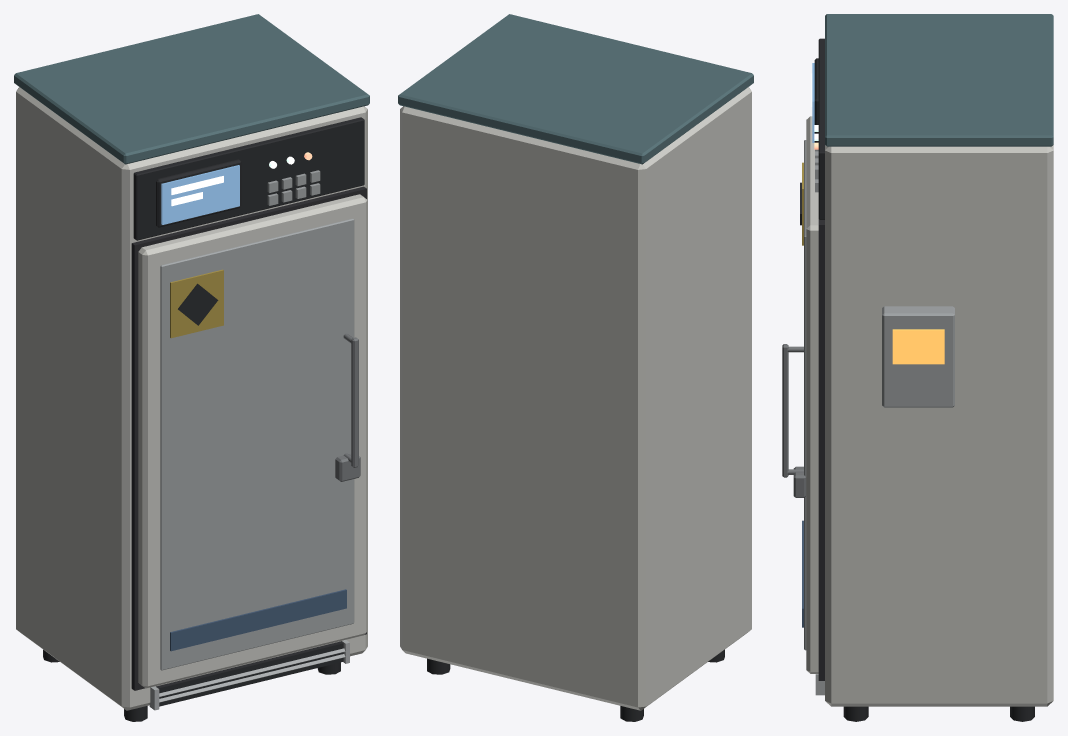
Rendered from astro_sample_freezer.fbx.
3 views of the same model, side by side, from view 1: azimuth 30°, elevation 25°; view 2: azimuth 150°, elevation 25°; view 3: azimuth 270°, elevation 25° (orthographic). The views are drawn at different scales.
Visible parts, largest first — view 1: SampleFreezer_Body; view 2: SampleFreezer_Body; view 3: SampleFreezer_Body.
Boxes of the visible parts, left/top/right/bottom form: SampleFreezer_Body: left=14, top=14, right=369, bottom=721; SampleFreezer_Body: left=398, top=14, right=753, bottom=721; SampleFreezer_Body: left=782, top=14, right=1053, bottom=721.
Size of the model in its own units: 151 by 315 by 131.
